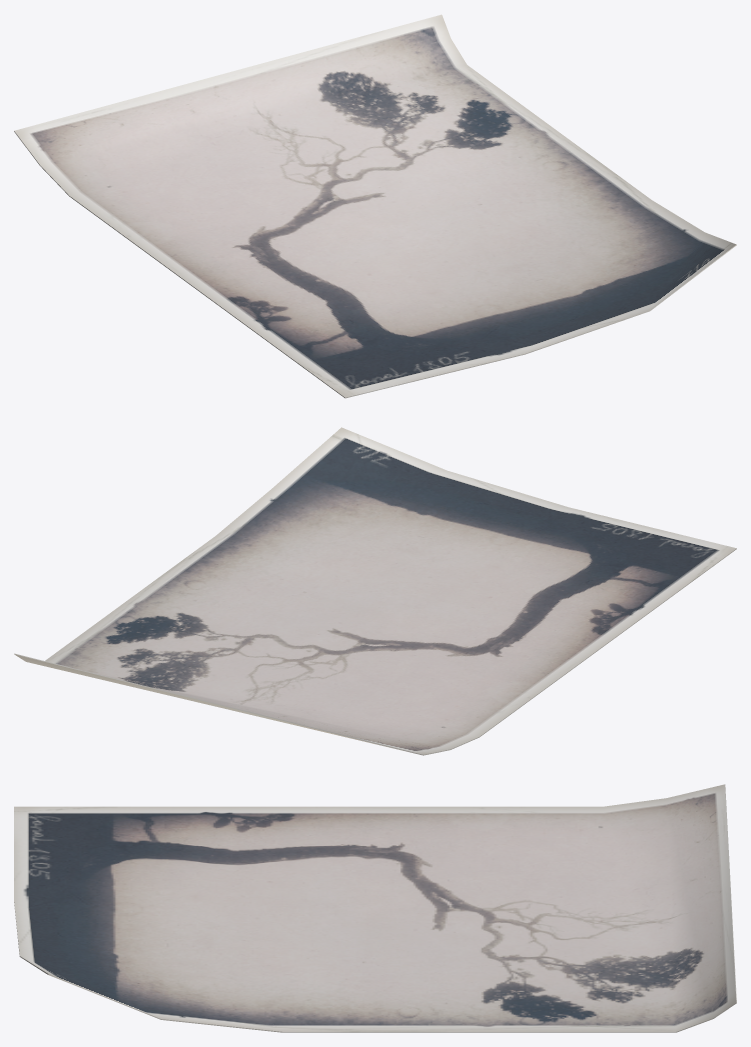
Rendered from Picture_3_Medium.FBX.
3 views of the same model, one above another, from view 1: azimuth 30°, elevation 25°; view 2: azimuth 150°, elevation 25°; view 3: azimuth 270°, elevation 25° (orthographic). The views are drawn at different scales.
Visible parts, largest first — view 1: Picture_3_Medium; view 2: Picture_3_Medium; view 3: Picture_3_Medium.
Boxes of the visible parts, x1,y1,x2,y2 form: Picture_3_Medium: [14, 14, 736, 398]; Picture_3_Medium: [14, 427, 736, 755]; Picture_3_Medium: [14, 784, 736, 1032].
Bounding box in the file's own units: 24.18 × 2.27 × 32.6.
